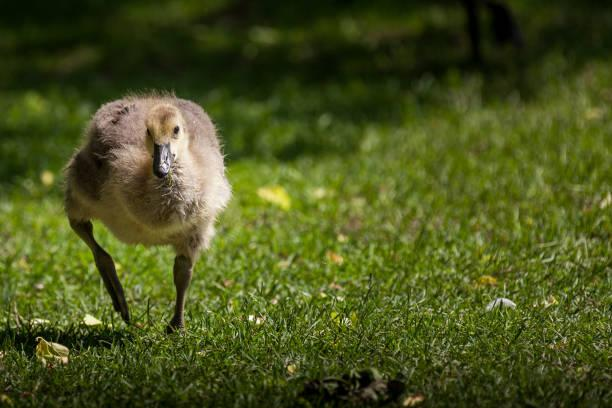Canadian-Goose: (58, 92, 234, 330)
